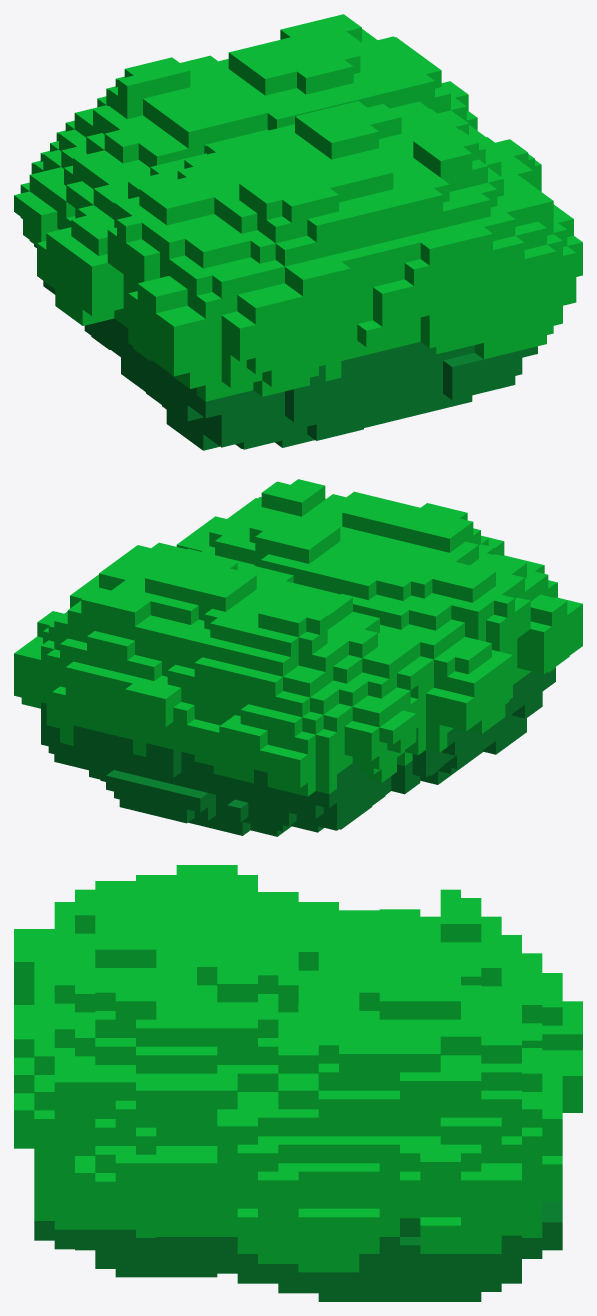
Rendered from nat_canopy_wide.obj.
3 renders of one model, top to bottom at view 1: azimuth 30°, elevation 25°; view 2: azimuth 150°, elevation 25°; view 3: azimuth 270°, elevation 25°, orthographic. The views are drawn at different scales.
Bounding box in the file's own units: 0.95 × 0.475 × 0.8867.
